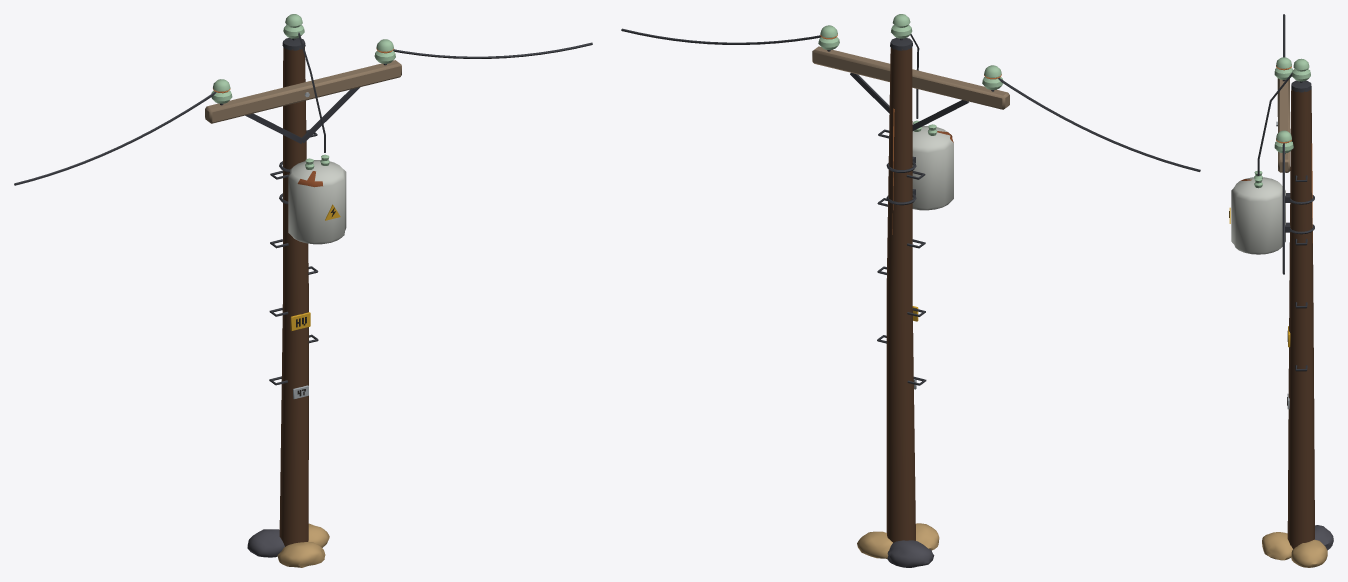
The model's file is deco_power_pole.fbx.
3 views of the same model, side by side, from view 1: azimuth 30°, elevation 25°; view 2: azimuth 150°, elevation 25°; view 3: azimuth 270°, elevation 25° (orthographic). The views are drawn at different scales.
Visible parts, largest first — view 1: PowerPole_Pole, PowerPole_Transformer, PowerPole_Crossarm, PowerPole_Cables, PowerPole_Insulators; view 2: PowerPole_Pole, PowerPole_Crossarm, PowerPole_Transformer, PowerPole_Cables, PowerPole_Insulators; view 3: PowerPole_Pole, PowerPole_Transformer, PowerPole_Insulators, PowerPole_Crossarm, PowerPole_Cables.
Boxes of the visible parts, x1,y1,x2,y2 form: PowerPole_Pole: (247,38,329,567); PowerPole_Transformer: (279,154,346,244); PowerPole_Crossarm: (205,60,401,143); PowerPole_Cables: (14,32,592,185); PowerPole_Insulators: (211,14,395,105); PowerPole_Pole: (857,38,939,567); PowerPole_Crossarm: (812,46,1009,130); PowerPole_Transformer: (886,120,953,210); PowerPole_Cables: (621,28,1200,171); PowerPole_Insulators: (818,14,1002,91); PowerPole_Pole: (1262,80,1333,567); PowerPole_Transformer: (1229,171,1314,254); PowerPole_Insulators: (1274,57,1310,153); PowerPole_Crossarm: (1276,78,1290,172); PowerPole_Cables: (1257,14,1292,274).
Bounding box in the file's own units: 600 × 532 × 103.
